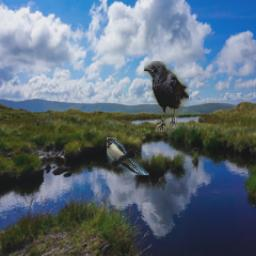Crow: (144, 61, 189, 132)
Swallow: (107, 137, 149, 175)
